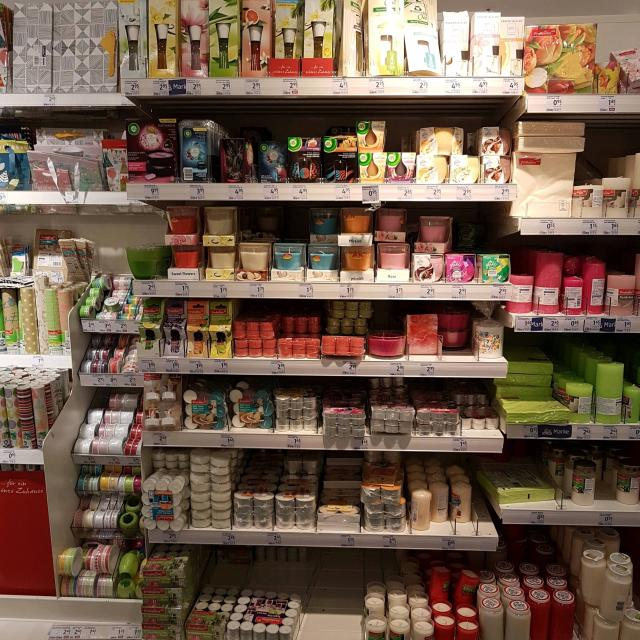void: (334, 551, 361, 640), (308, 553, 329, 640)
